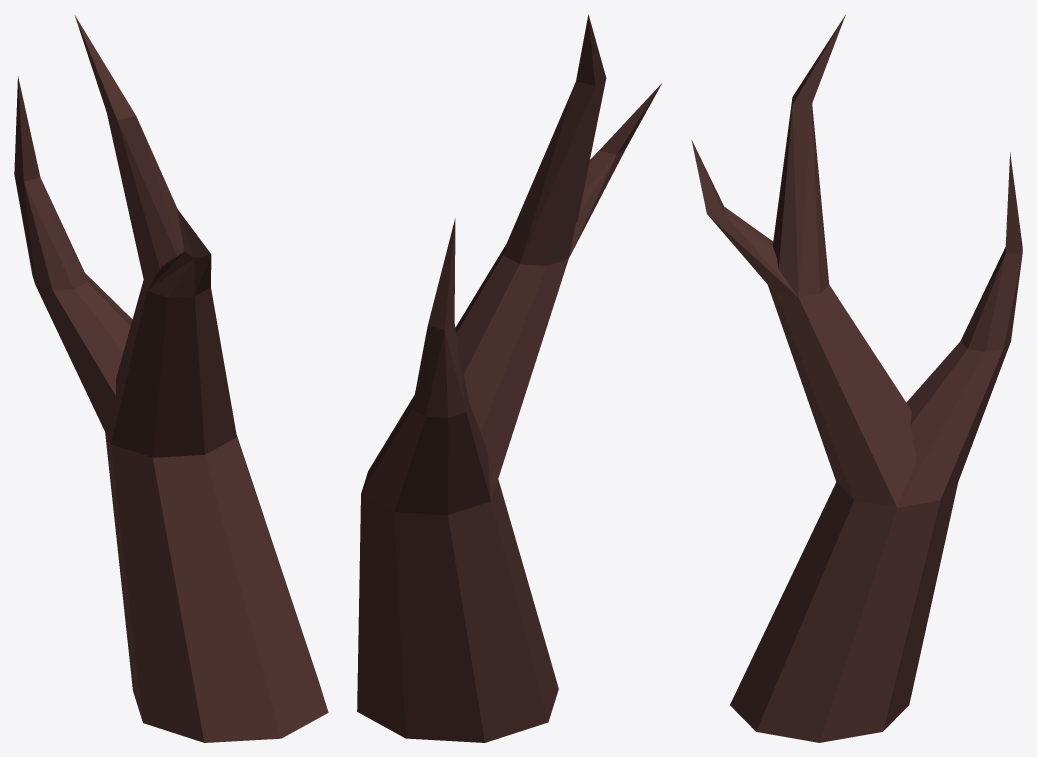
File: better_potted_plant.glb
3 views of the same model, side by side, from view 1: azimuth 30°, elevation 25°; view 2: azimuth 150°, elevation 25°; view 3: azimuth 270°, elevation 25° (orthographic). The views are drawn at different scales.
Parts seen in each view (by area): view 1: Circle; view 2: Circle; view 3: Circle.
Boxes of the visible parts, x1,y1,x2,y2 form: Circle: (14, 15, 328, 742); Circle: (357, 14, 661, 742); Circle: (691, 15, 1022, 742).
Bounding box in the file's own units: 2.61 × 7.75 × 3.69.
